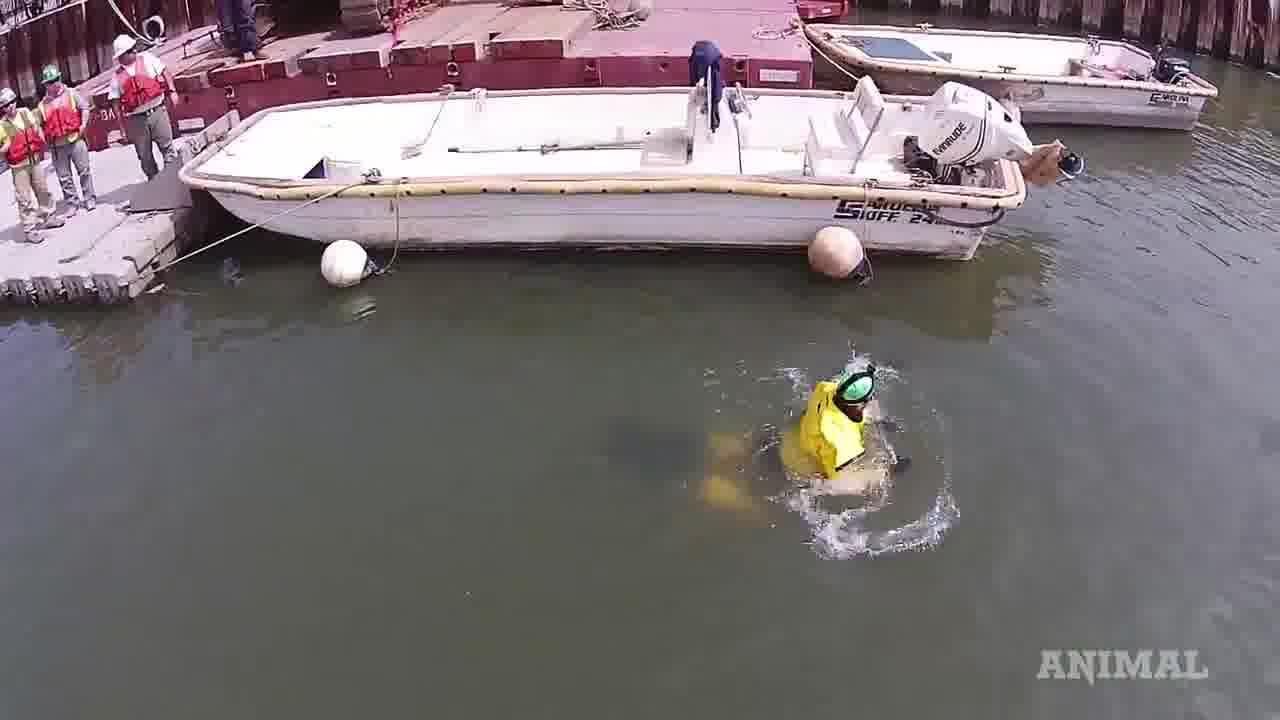swimmer: (712, 371, 889, 501)
